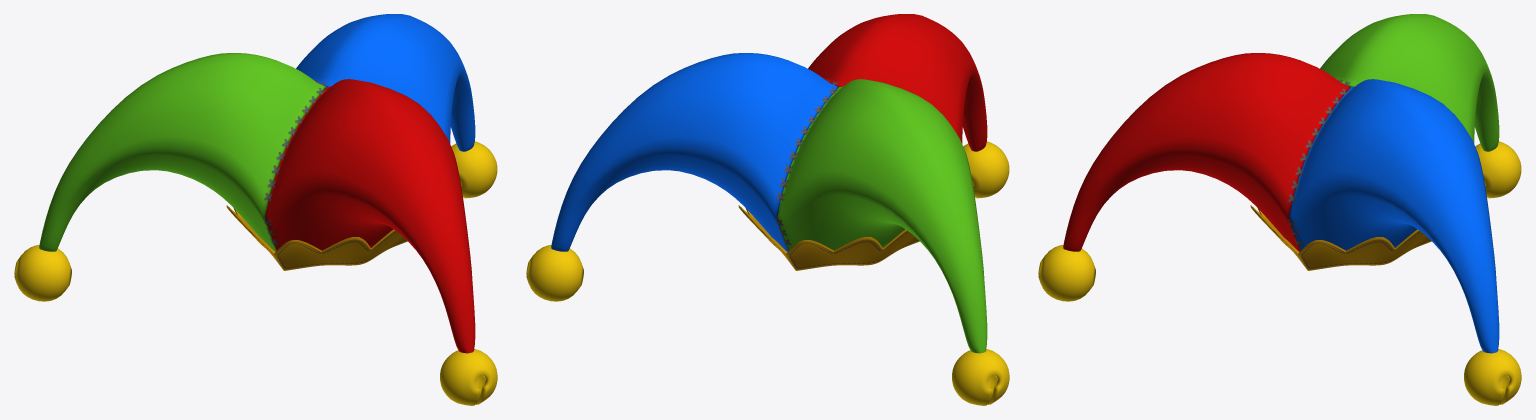
Rendered from jester_C.fbx.
3 renders of one model, left to right at view 1: azimuth 30°, elevation 25°; view 2: azimuth 150°, elevation 25°; view 3: azimuth 270°, elevation 25°, orthographic.
Visible parts, largest first — view 1: Horns_plastic, Bells_plastic, Base_plastic; view 2: Horns_plastic, Bells_plastic, Base_plastic; view 3: Horns_plastic, Bells_plastic, Base_plastic.
Boxes of the visible parts, bbox=[...] form: Horns_plastic: bbox=[39, 14, 475, 353]; Bells_plastic: bbox=[14, 141, 497, 405]; Base_plastic: bbox=[226, 205, 407, 270]; Horns_plastic: bbox=[551, 14, 987, 353]; Bells_plastic: bbox=[526, 141, 1009, 405]; Base_plastic: bbox=[738, 205, 919, 270]; Horns_plastic: bbox=[1063, 14, 1499, 353]; Bells_plastic: bbox=[1038, 141, 1521, 405]; Base_plastic: bbox=[1250, 205, 1431, 270].
Bounding box in the file's own units: 350 × 172 × 308.
